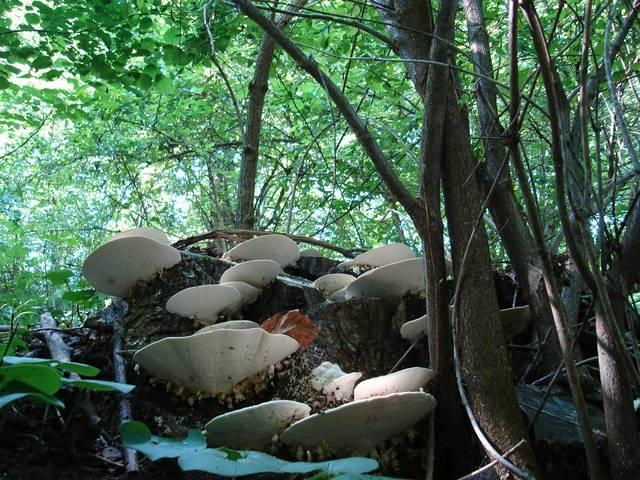Non-edible Mushroom: (141, 231, 436, 457), (80, 226, 181, 299)
